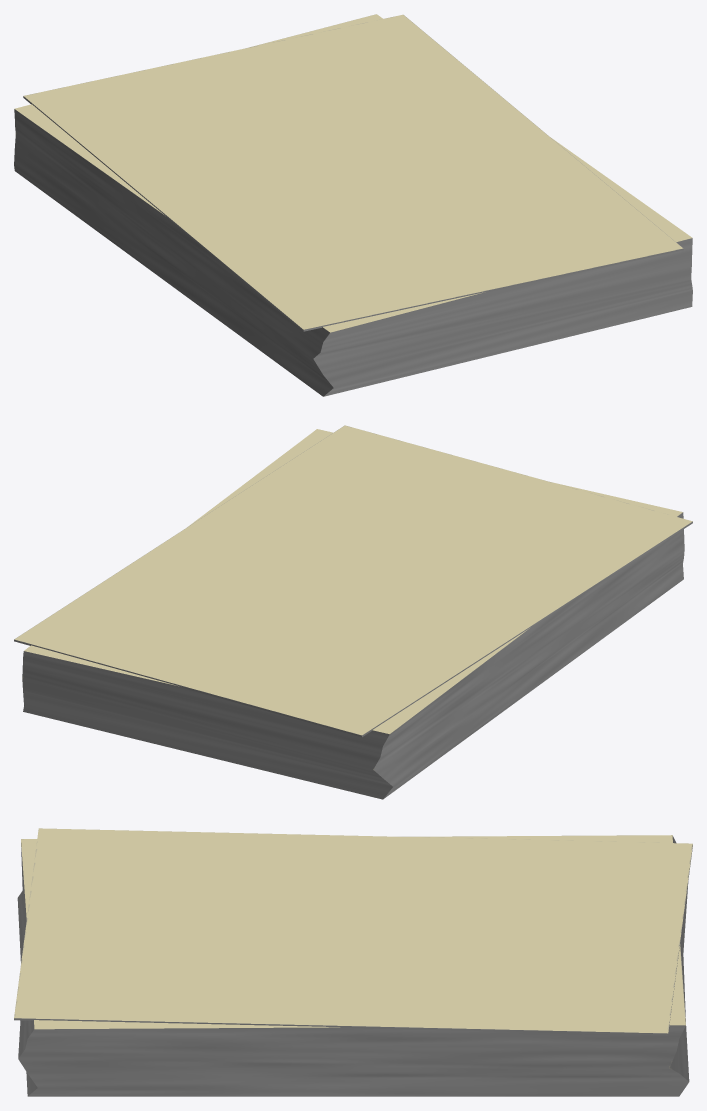
Rendered from paper.glb.
The picture shows the model from 3 angles, top to bottom: view 1: azimuth 30°, elevation 25°; view 2: azimuth 150°, elevation 25°; view 3: azimuth 270°, elevation 25°; orthographic projection. The views are drawn at different scales.
Visible parts, largest first — view 1: paper; view 2: paper; view 3: paper.
Boxes of the visible parts, x1=… form: paper: x1=14, y1=14, x2=692, y2=396; paper: x1=14, y1=425, x2=692, y2=799; paper: x1=14, y1=828, x2=692, y2=1096.
Size of the model in its own units: 2.16 by 0.3458 by 3.02.
1 material, 1 textured.
